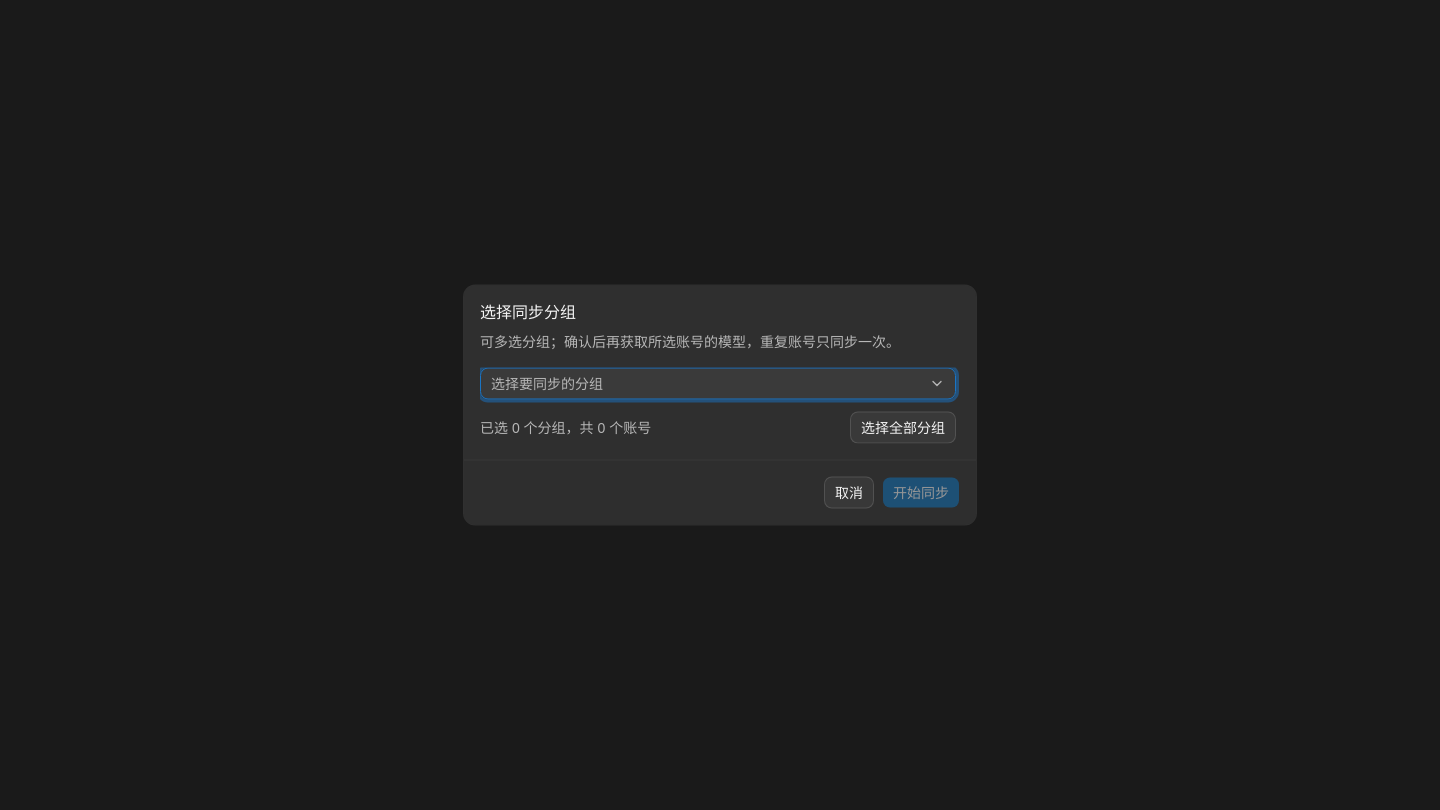
it: 后台预览刷新失败时保留已有模型但禁止提交，重试成功后恢复
Click the button "选择全部分组" at coordinates (903, 428), box [850,412,956,444]
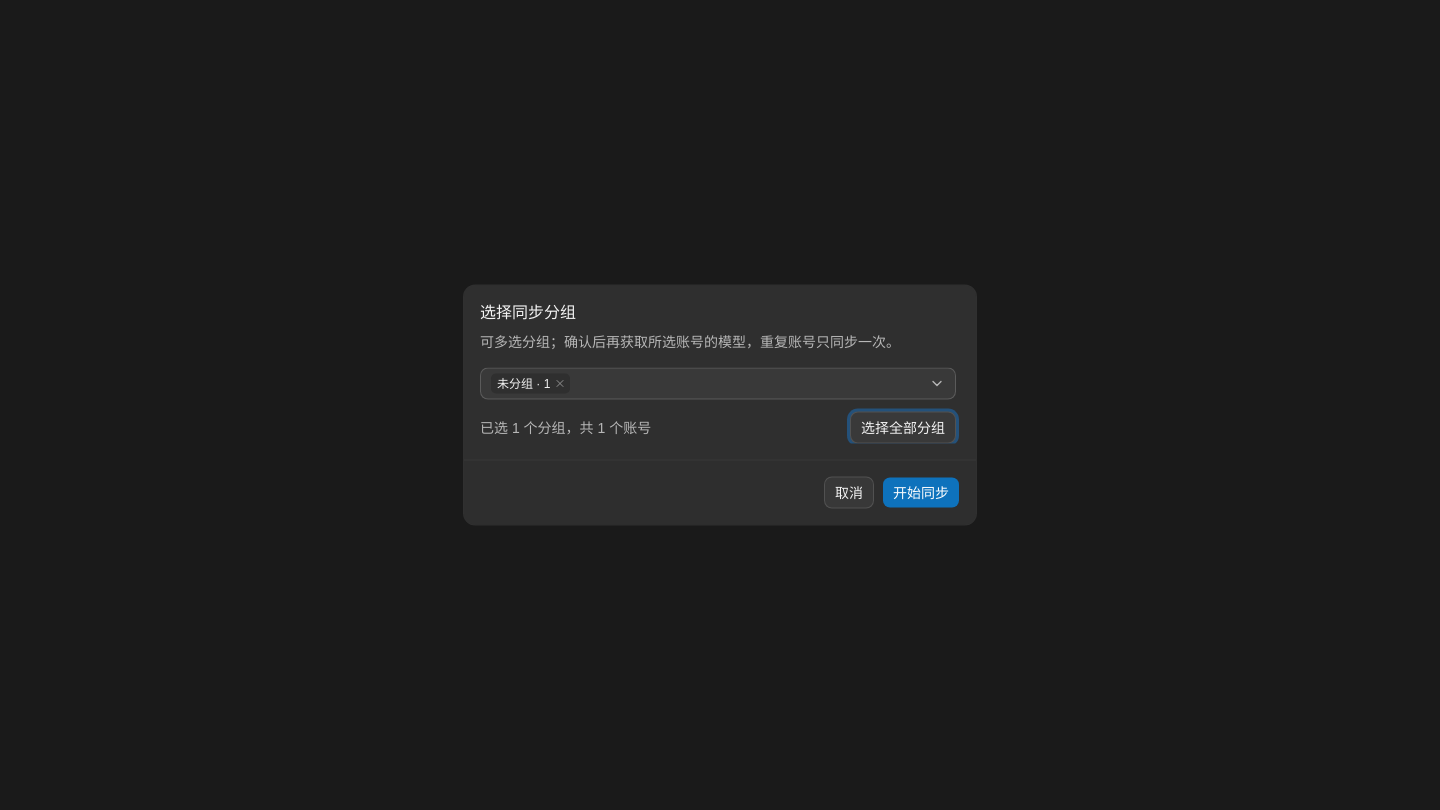
Click the button "开始同步" at coordinates (921, 492), box [882,476,960,508]
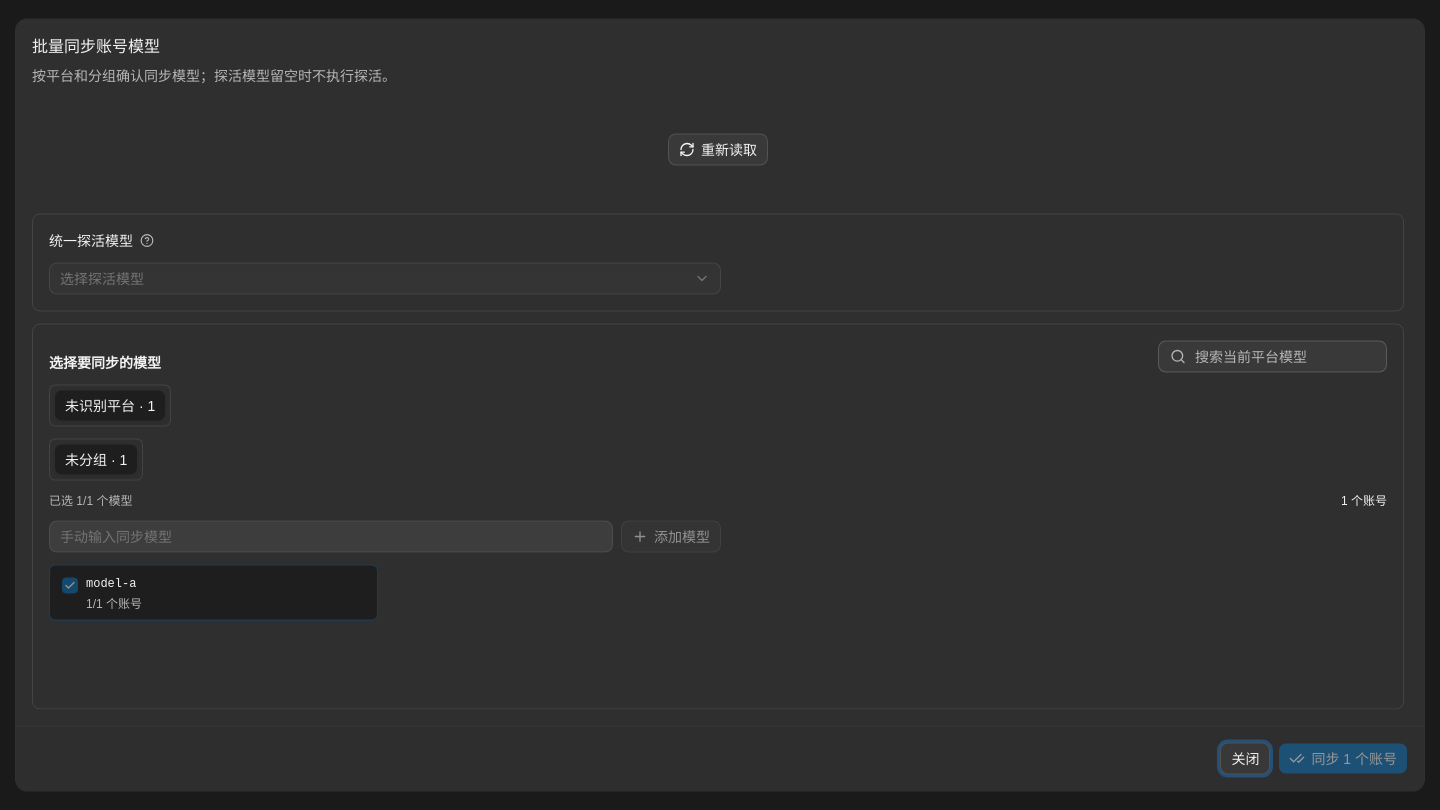
Expected: the checkbox named "同步模型 model-a" is checked, [62,578,78,594]
Expected: the button "同步 1 个账号" is disabled, [1278,742,1408,774]
Click the button "重新读取" at coordinates (718, 150), box [668,134,768,166]
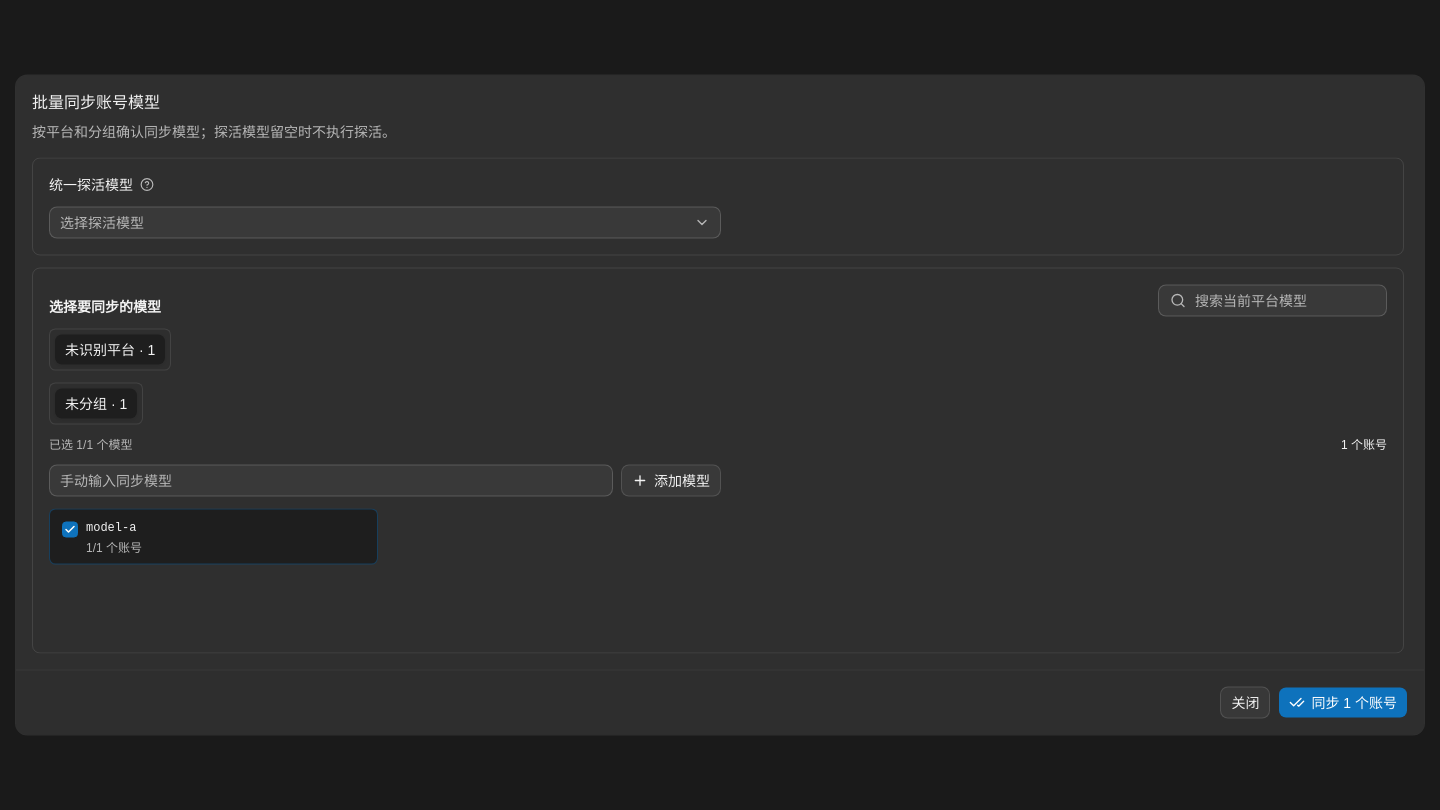
Expected: the button "同步 1 个账号" is enabled, [1278,686,1408,718]
